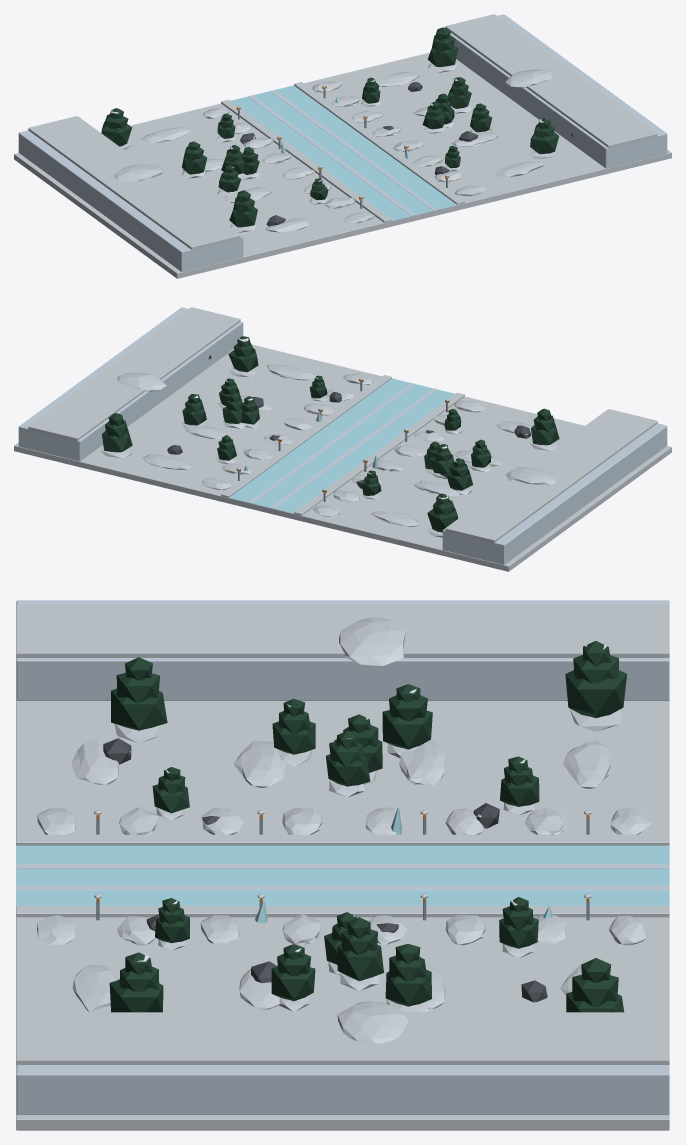
File: MenuRideSegment_A.fbx
3 views of the same model, one above another, from view 1: azimuth 30°, elevation 25°; view 2: azimuth 150°, elevation 25°; view 3: azimuth 270°, elevation 25° (orthographic). The views are drawn at different scales.
Parts seen in each view (by area): view 1: MenuRideSegment_A; view 2: MenuRideSegment_A; view 3: MenuRideSegment_A.
Part boxes in pixels (x1,y1,x2,y2): MenuRideSegment_A: [14, 14, 671, 278]; MenuRideSegment_A: [14, 307, 671, 571]; MenuRideSegment_A: [16, 600, 669, 1130].
Size of the model in its own units: 5600 by 519 by 3200.
